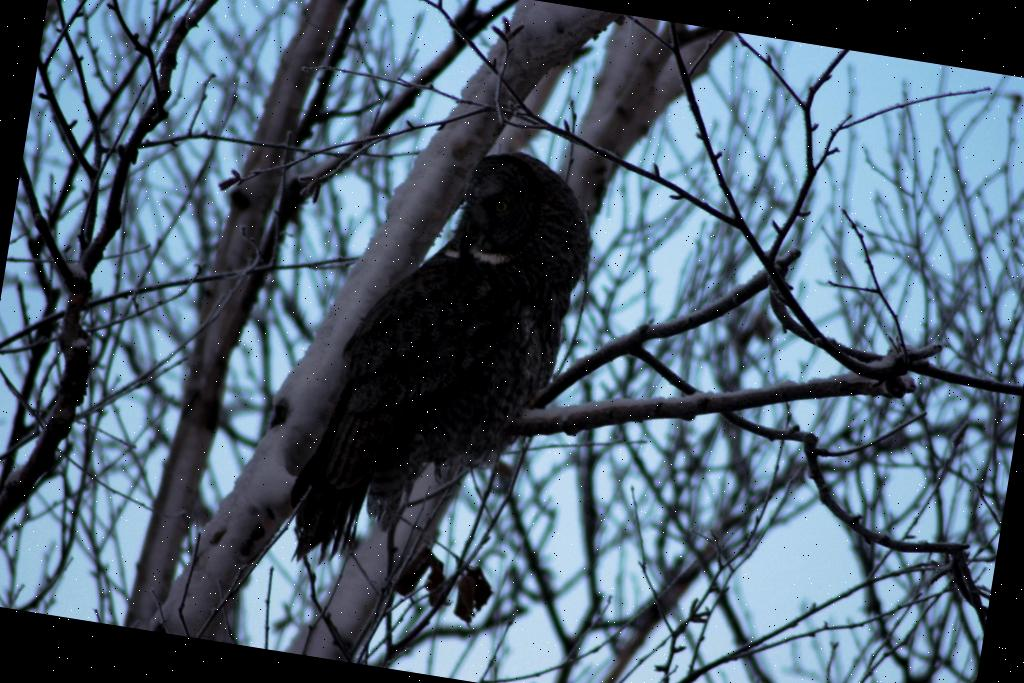Owl: (246, 115, 600, 610)
